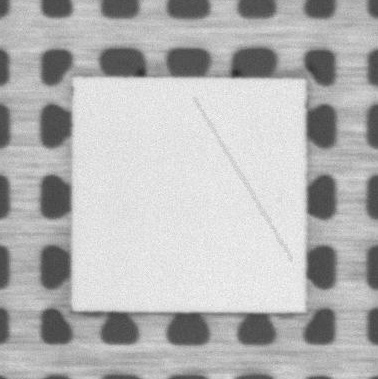DIE_CRACK: (193, 98, 291, 260)
